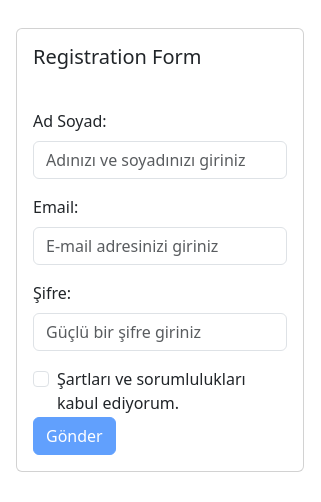
Test: Register Page › Error messages › name inputs throw errors for 2 chars
Type "se" into the field with test id "name-input" at (160, 160), box [33,141,287,179]
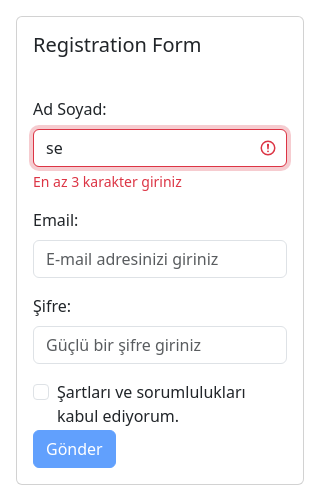
Expected: the text "En az 3 karakter giriniz" is shown, [33,172,182,190]
